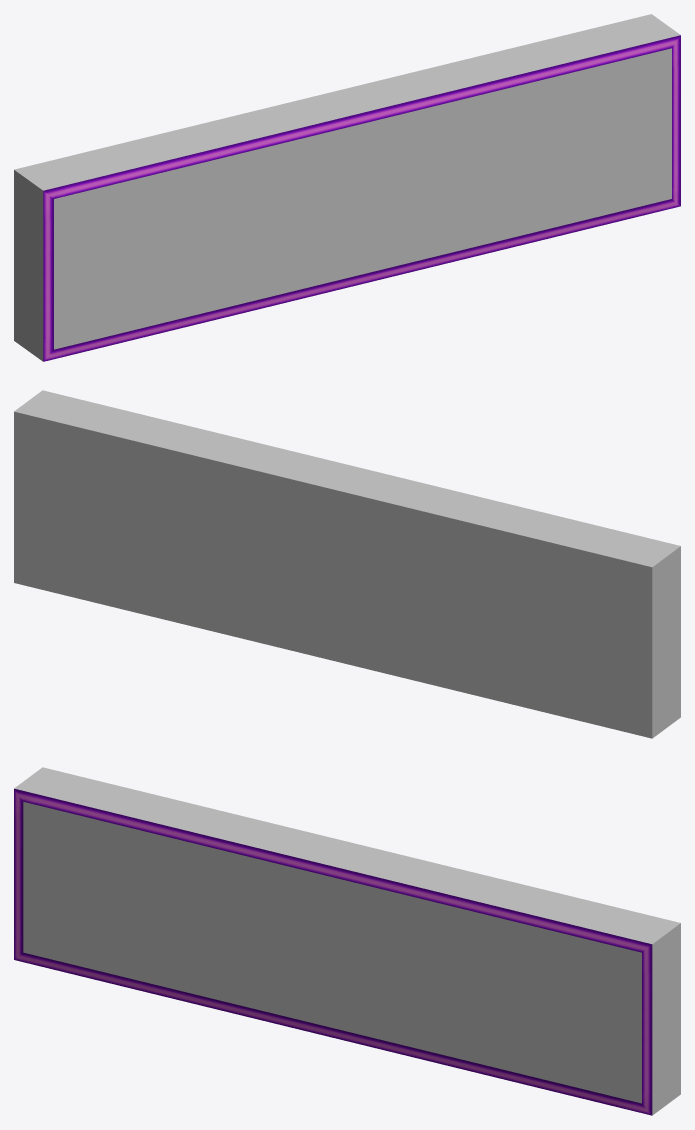
Rendered from sign_15d.fbx.
The picture shows the model from 3 angles, top to bottom: view 1: azimuth 30°, elevation 25°; view 2: azimuth 150°, elevation 25°; view 3: azimuth 330°, elevation 25°; orthographic projection.
Visible parts, largest first — view 1: sign_15d; view 2: sign_15d; view 3: sign_15d.
Boxes of the visible parts, bbox=[...] form: sign_15d: bbox=[14, 14, 680, 361]; sign_15d: bbox=[14, 390, 680, 738]; sign_15d: bbox=[14, 767, 680, 1115].
Size of the model in its own units: 3.55 by 0.9092 by 0.2851.
